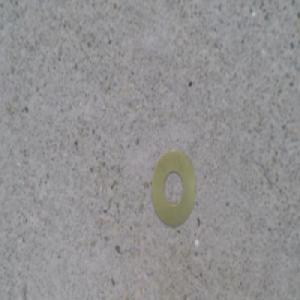Washer: (149, 146, 195, 228)
